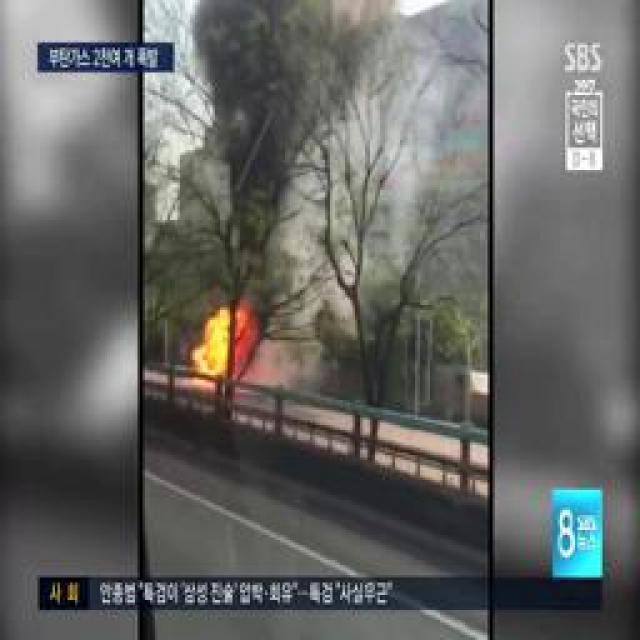Fire: (191, 319, 260, 386)
